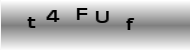4: (45, 9, 60, 23)
F: (75, 7, 88, 21)
U: (94, 10, 110, 24)
f: (124, 16, 135, 31)
t: (25, 15, 37, 29)
